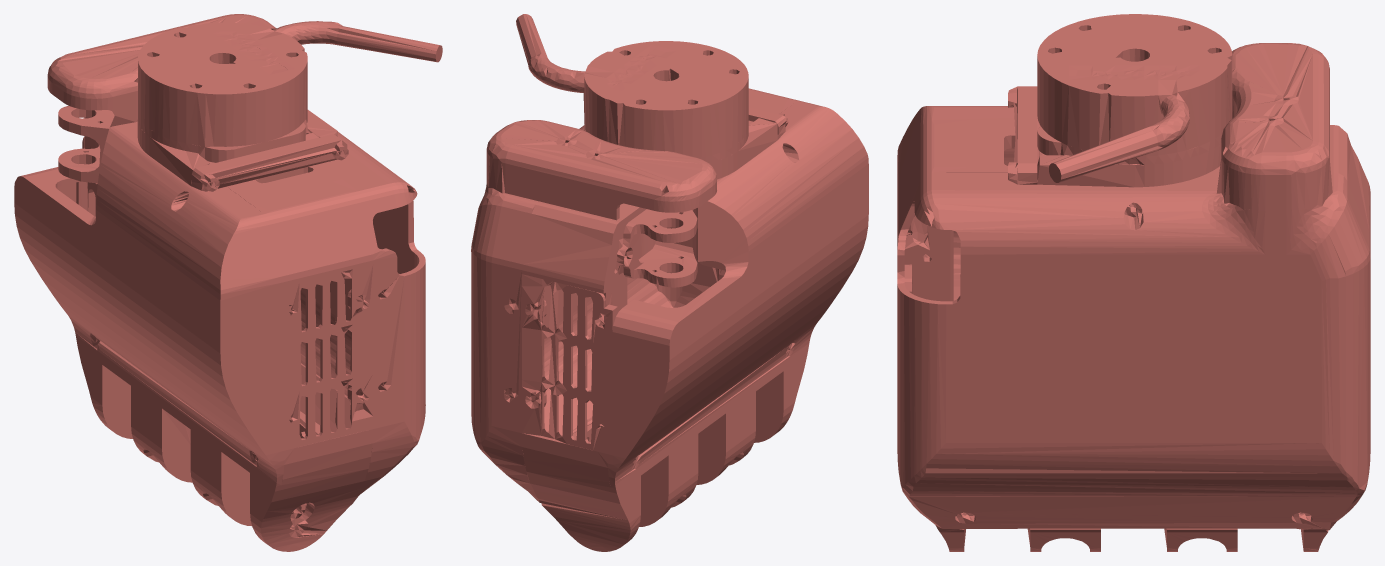
The model's file is H2R3_RT8_palm_right.dae.
The picture shows the model from 3 angles, left to right: view 1: azimuth 30°, elevation 25°; view 2: azimuth 150°, elevation 25°; view 3: azimuth 270°, elevation 25°; orthographic projection. The views are drawn at different scales.
Visible parts, largest first — view 1: H2R3_RT8_palm_right; view 2: H2R3_RT8_palm_right; view 3: H2R3_RT8_palm_right.
Boxes of the visible parts, <box> form: H2R3_RT8_palm_right: <box>14,14,442,551</box>; H2R3_RT8_palm_right: <box>471,14,868,551</box>; H2R3_RT8_palm_right: <box>897,14,1370,551</box>.
Bounding box in the file's own units: 0.0798 × 0.097 × 0.1121.
